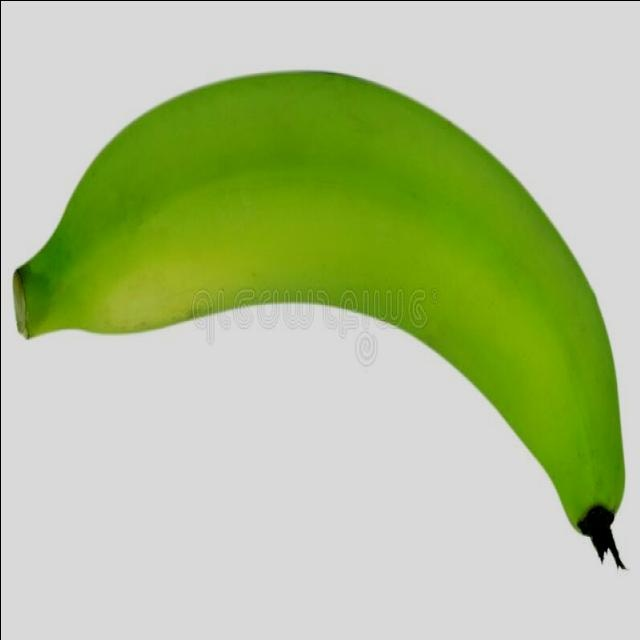agrume: (12, 63, 625, 565)
